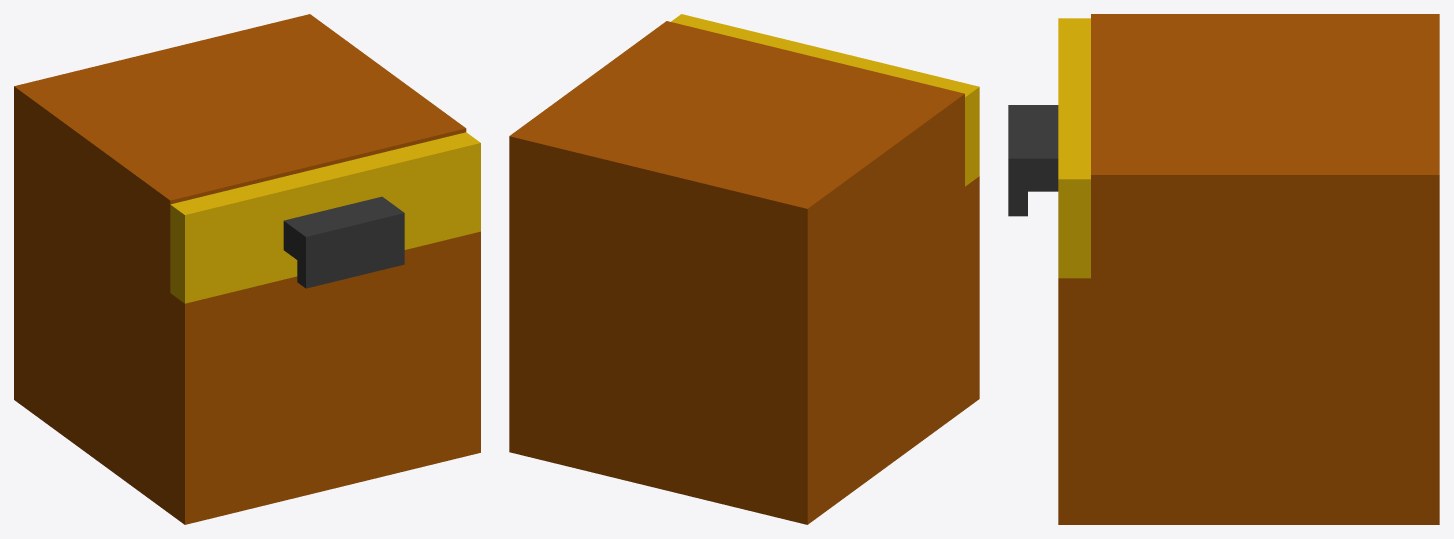
File: tymbochka.fbx
The picture shows the model from 3 angles, left to right: view 1: azimuth 30°, elevation 25°; view 2: azimuth 150°, elevation 25°; view 3: azimuth 270°, elevation 25°; orthographic projection. The views are drawn at different scales.
Parts seen in each view (by area): view 1: main, doorzza, doorzza.001; view 2: main, doorzza; view 3: main, doorzza, doorzza.001.
Boxes of the visible parts, box(x1,y1,x2,y2) form: main: box(14, 14, 480, 524); doorzza: box(170, 132, 480, 303); doorzza.001: box(283, 196, 404, 288); main: box(509, 21, 979, 524); doorzza: box(671, 14, 979, 186); main: box(1058, 14, 1439, 524); doorzza: box(1058, 18, 1090, 278); doorzza.001: box(1008, 105, 1058, 216).
Bounding box in the file's own units: 200 × 202 × 226.
